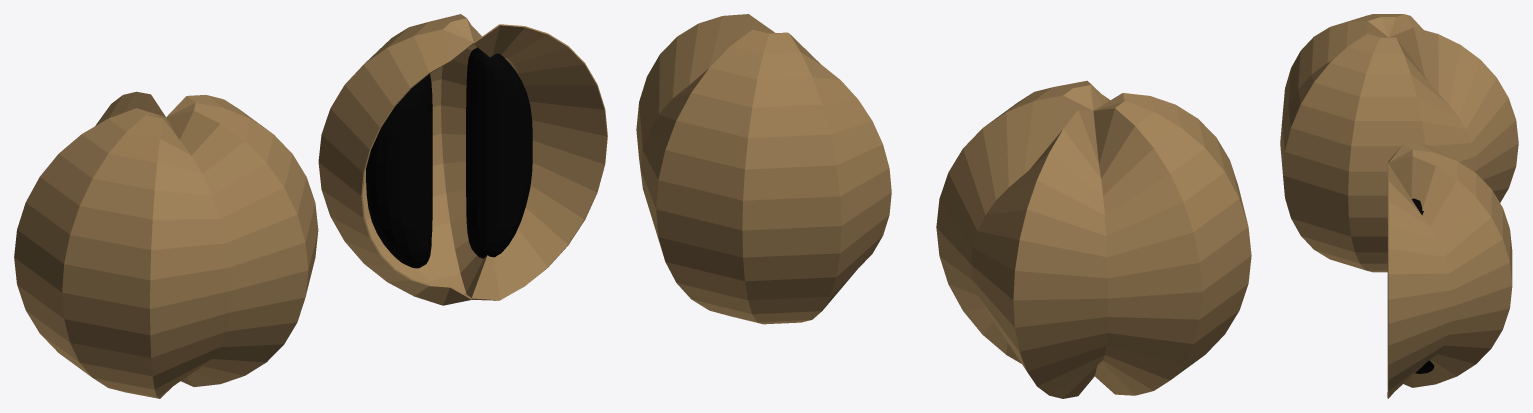
The model's file is Kapulaga.fbx.
3 views of the same model, side by side, from view 1: azimuth 30°, elevation 25°; view 2: azimuth 150°, elevation 25°; view 3: azimuth 270°, elevation 25° (orthographic). The views are drawn at different scales.
Parts seen in each view (by area): view 1: Kapulaga, Kapulaga Half, Isi kapulaga 2, Isi kapulaga; view 2: Kapulaga, Kapulaga Half; view 3: Kapulaga, Kapulaga Half, Isi kapulaga 2.
Boxes of the visible parts, x1,y1,x2,y2 form: Kapulaga: (14, 91, 318, 398); Kapulaga Half: (318, 14, 607, 305); Isi kapulaga 2: (466, 47, 532, 258); Isi kapulaga: (366, 73, 432, 268); Kapulaga: (936, 80, 1251, 398); Kapulaga Half: (636, 14, 891, 324); Kapulaga: (1280, 14, 1518, 272); Kapulaga Half: (1387, 142, 1512, 398); Isi kapulaga 2: (1411, 198, 1434, 373).
Size of the model in its own units: 4.58 by 2.12 by 1.98.
